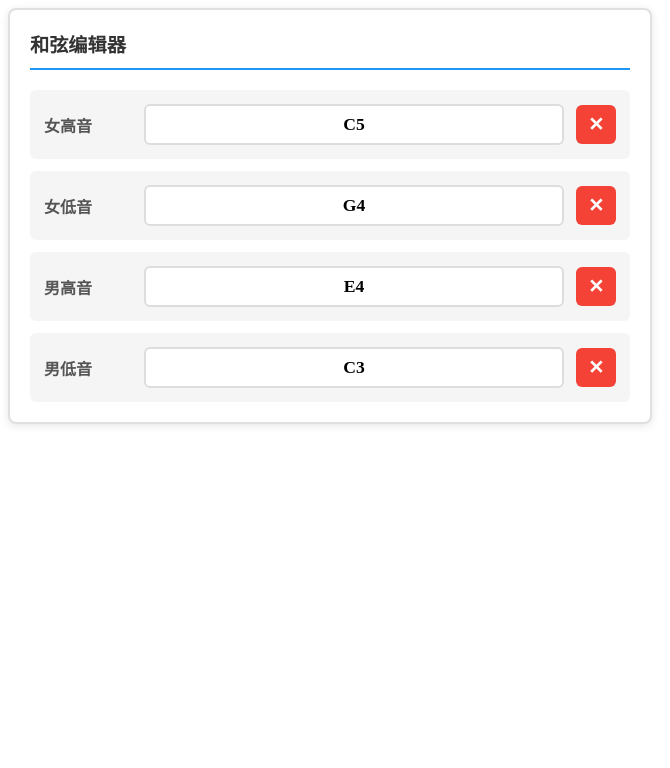
Test case: ChordEditor 组件 › 应该在点击音符时显示编辑面板
The image size is (670, 768).
#  点击女高音音符
Click the text with test id "note-display-0": (354, 124) [144,104,564,145]
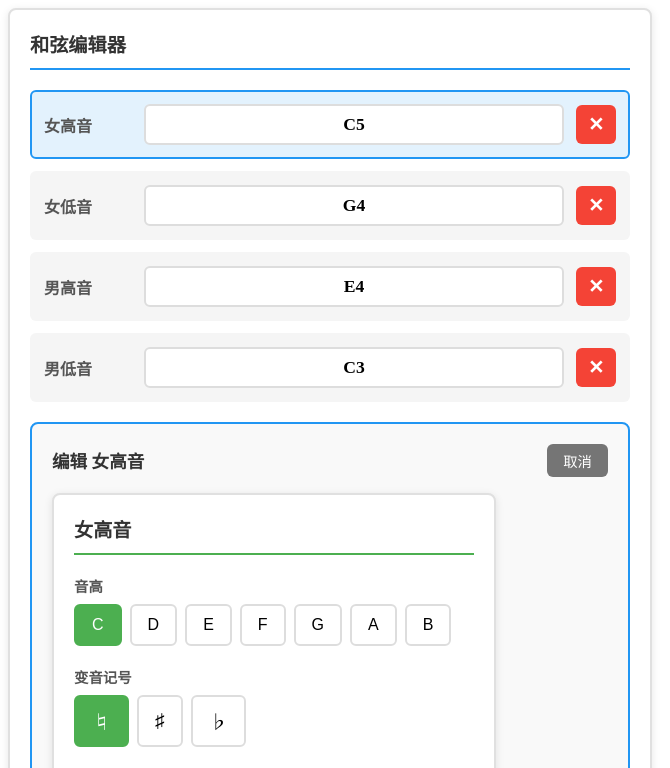
Check: the heading "编辑 女高音" is shown, box [52,448,144,473]
